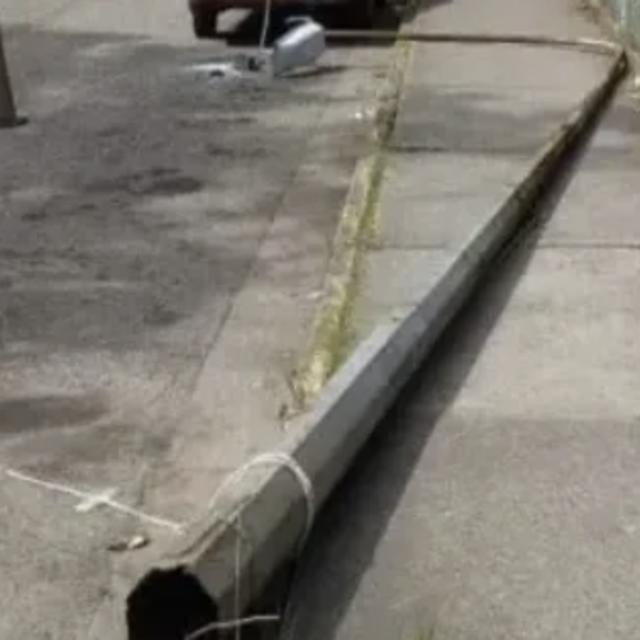Inclined Pole: (125, 25, 632, 640)
